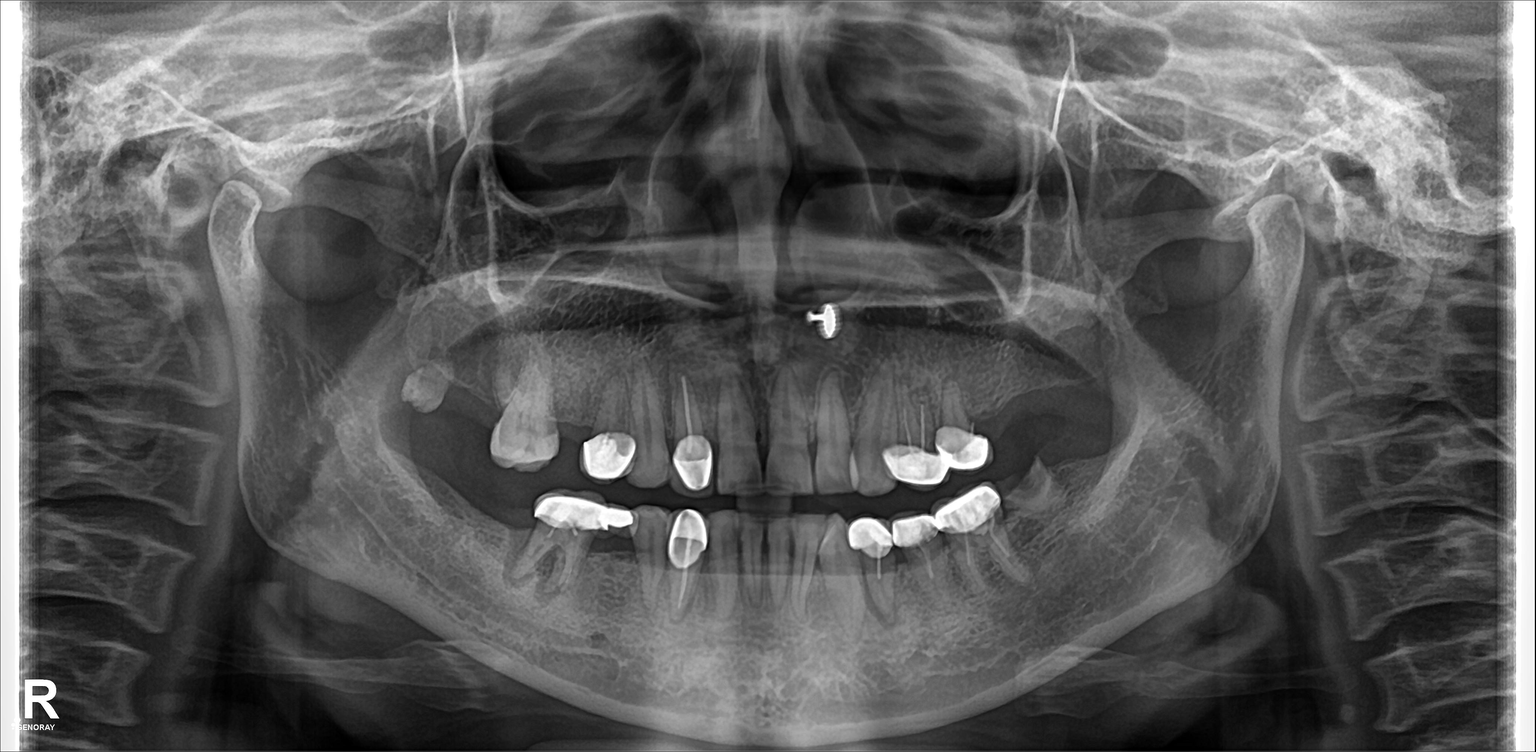Endodontically Treated Tooth: (534, 484, 617, 593), (955, 486, 1009, 591), (851, 519, 898, 615), (676, 376, 715, 489), (890, 385, 931, 481), (669, 508, 708, 599), (901, 514, 936, 602)
Impacted Third Molar: (395, 356, 454, 414)
Missing Tooth: (1073, 450, 1114, 547), (425, 465, 462, 553), (555, 374, 591, 462), (464, 350, 496, 442), (462, 475, 496, 560), (507, 465, 535, 563), (991, 376, 1024, 447), (1063, 367, 1099, 423), (1028, 374, 1055, 438)
Retained Root: (1013, 460, 1062, 527)
